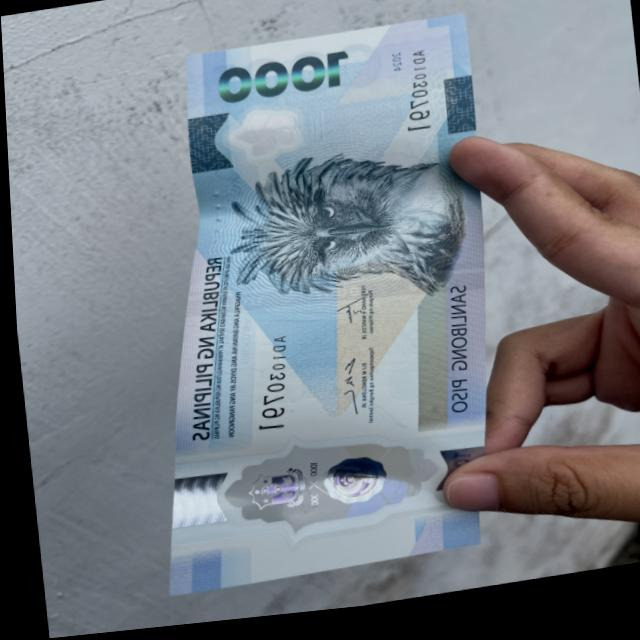clear_window: (147, 419, 487, 574)
eagle: (227, 145, 465, 319)
sampaguita: (216, 102, 331, 176)
security_thread: (181, 281, 482, 321)
serial_number: (242, 340, 297, 438), (395, 56, 435, 145)
